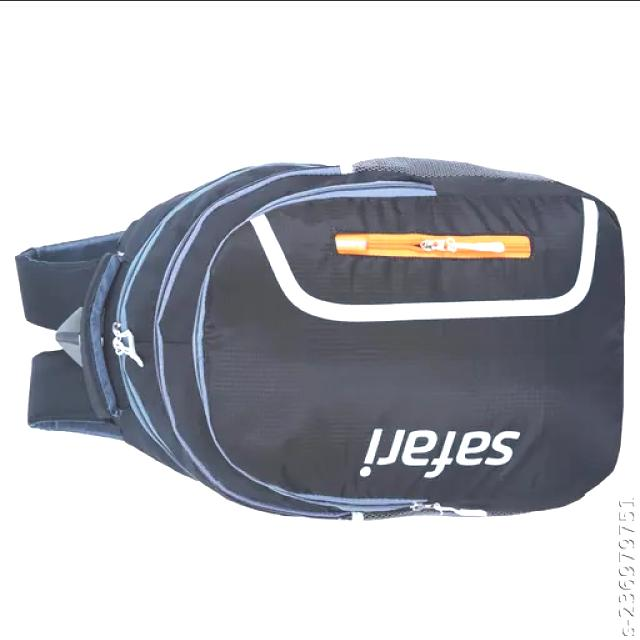backpack: (15, 156, 626, 524)
